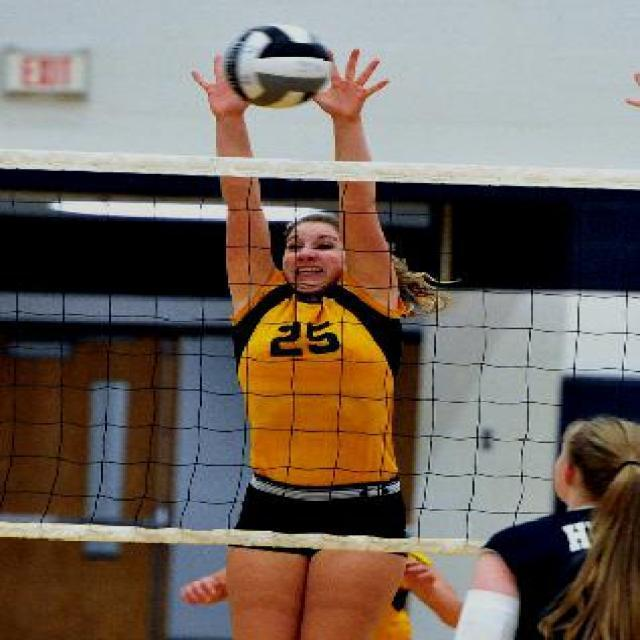volleyball: (224, 23, 333, 108)
